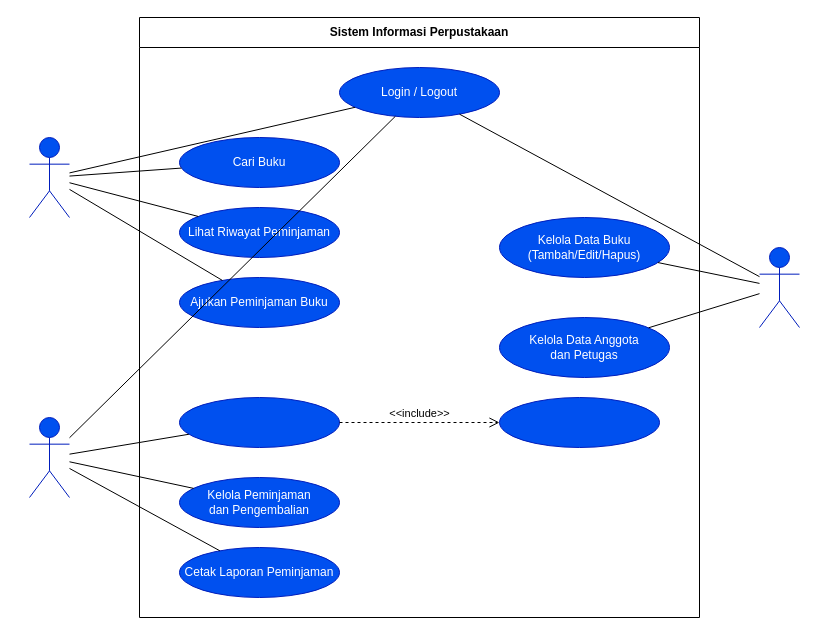
Image size: 817x635. Some labels were removed from this diagram. The centre of each missing label's shape, as x and y in pixels:
Admin: the point at 779,287
Anggota: the point at 49,177
Cek Status Anggota: the point at 579,422
Pustakawan: the point at 49,457
Verifikasi Peminjaman: the point at 259,422
